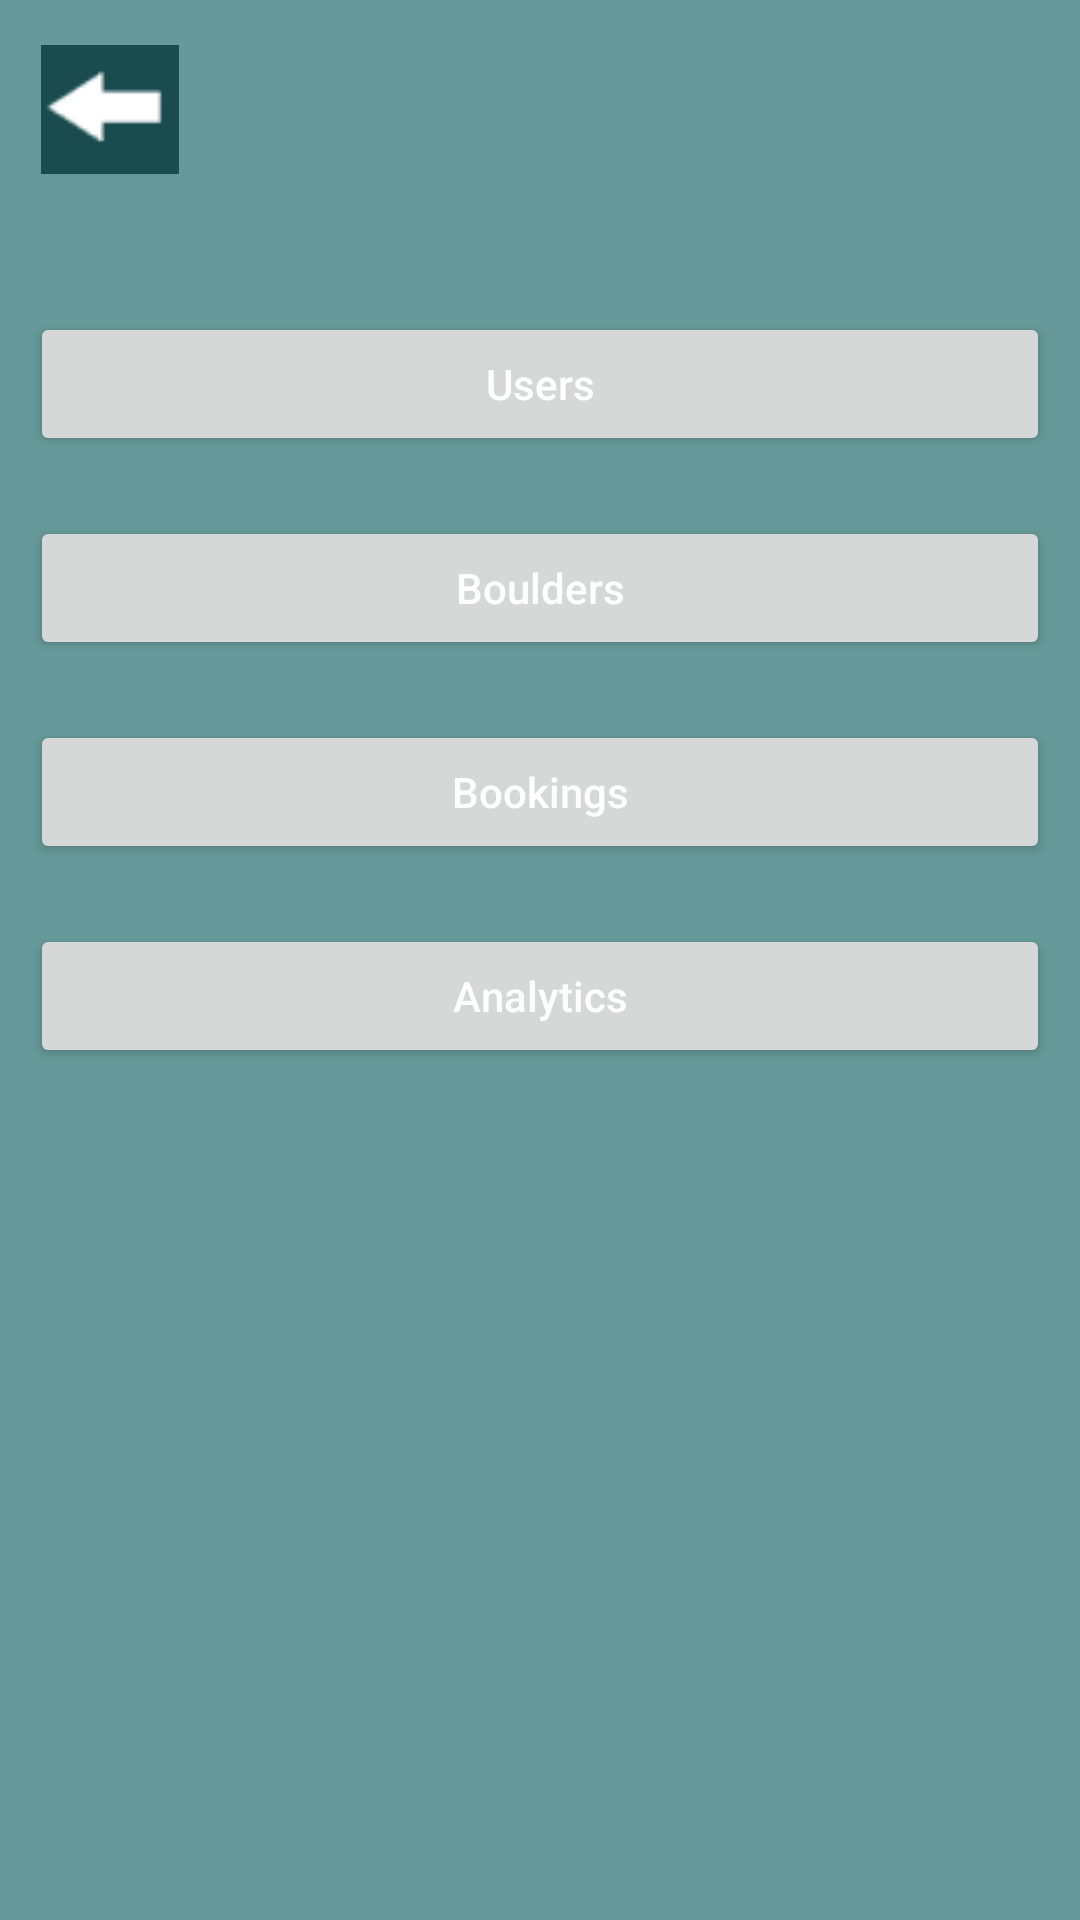

Screen size 1080px×1920px. Icon name, then its box in pixels as [x1,y1,x2,y2]:
go back: [41,45,179,174]
